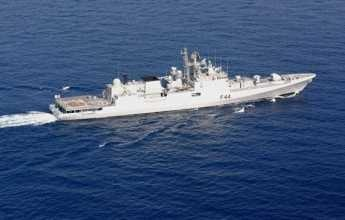warship: (51, 42, 320, 120)
